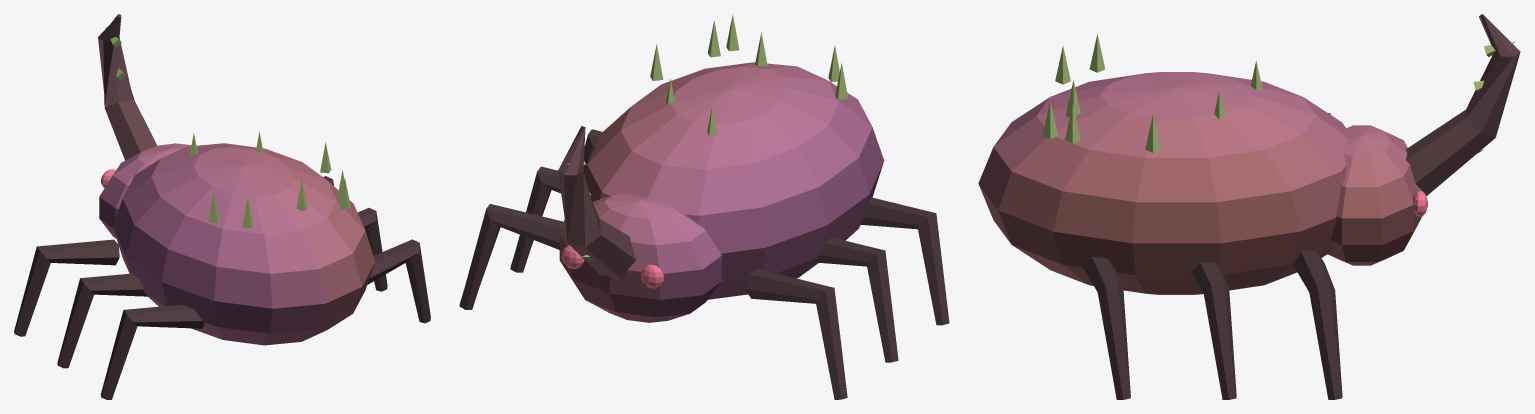
The model's file is ThornBeetle.fbx.
3 renders of one model, left to right at view 1: azimuth 30°, elevation 25°; view 2: azimuth 150°, elevation 25°; view 3: azimuth 270°, elevation 25°, orthographic. The views are drawn at different scales.
Parts seen in each view (by area): view 1: Enemy_ThornBeetle; view 2: Enemy_ThornBeetle; view 3: Enemy_ThornBeetle.
Boxes of the visible parts, <box> form: Enemy_ThornBeetle: <box>14,14,430,399</box>; Enemy_ThornBeetle: <box>459,14,949,399</box>; Enemy_ThornBeetle: <box>978,14,1520,399</box>.
Size of the model in its own units: 1.76 by 1.21 by 2.05.
